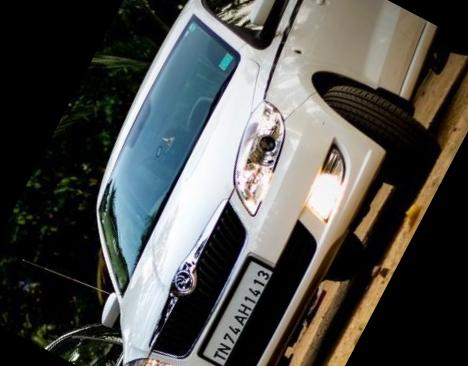plate: (182, 239, 298, 366)
